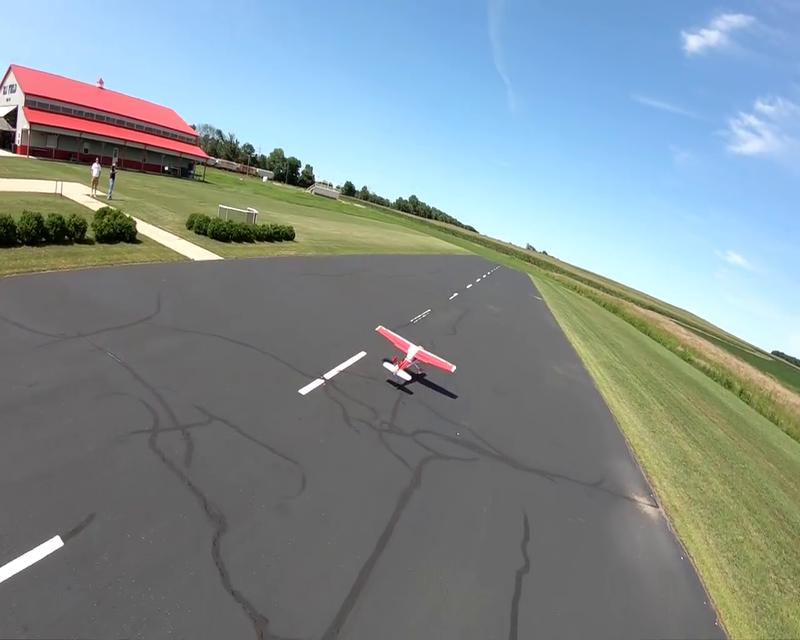UAV: (373, 323, 457, 386)
